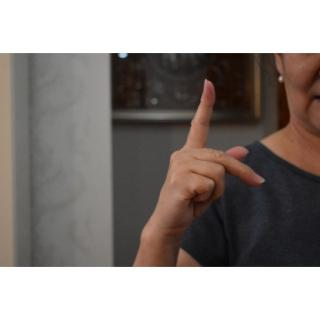DHAA: (140, 74, 272, 243)
